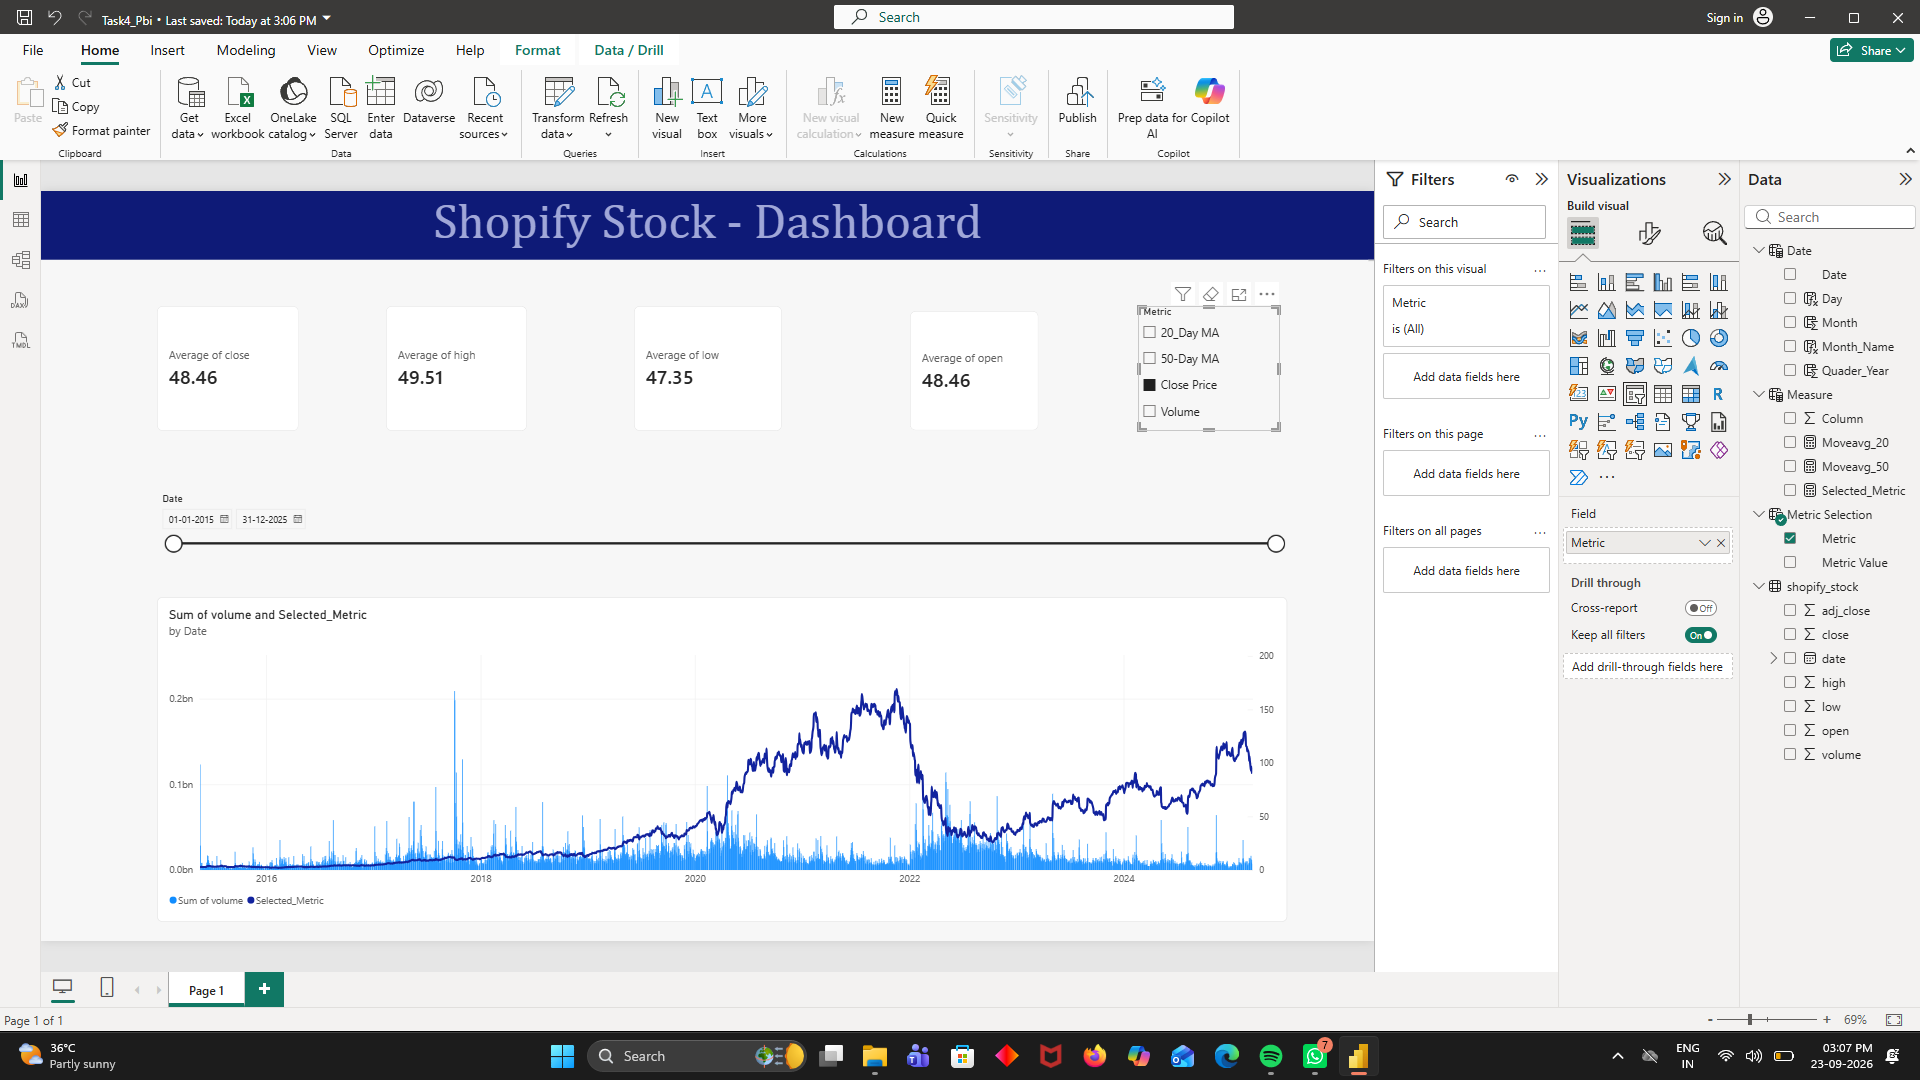

What the dashboard file says about the page in this screenshot:
{"tool":"powerbi","page":{"name":"Page 1","canvas":[1920,1080],"ordinal":0},"visuals":[{"type":"textbox","title":"Shopify Stock - Dashboard","box":[0,0,1920,100.7],"z":0},{"type":"slicer","fields":{"Values":["Metric Selection.Metric"]},"box":[1580.1,165.6,204.5,180],"z":1000},{"type":"cardVisual","fields":{"Data":["Avg(shopify_stock.close)"]},"box":[167.1,165.6,204.5,180],"z":2000},{"type":"cardVisual","fields":{"Data":["Avg(shopify_stock.high)"]},"box":[496.9,165.6,203.1,180],"z":3000},{"type":"cardVisual","fields":{"Data":["Avg(shopify_stock.low)"]},"box":[854.1,165.6,213.2,180],"z":4000},{"type":"cardVisual","fields":{"Data":["Avg(shopify_stock.open)"]},"box":[1251.7,172.8,185.8,172.8],"z":5000},{"type":"slicer","fields":{"Values":["Date.Date"]},"box":[167.1,435,1627.6,149.8],"z":6000},{"type":"lineClusteredColumnComboChart","fields":{"Category":["Date.Date"],"Y":["Sum(shopify_stock.volume)"],"Y2":["Measure.Selected_Metric"]},"box":[167.1,584.8,1627.6,468.1],"z":6001}]}

Visuals, with their boxes on the page's 1920x1080 design canvas (x1, y1, x2, y2). These are canvas units, not pixel positions in the 1920x1080 screenshot, which may show the page scaled, cropped or inside an application window:
"Shopify Stock - Dashboard" textbox: rect(0, 0, 1920, 101)
slicer - Metric Selection.Metric: rect(1580, 166, 1785, 346)
cardVisual - Avg(shopify_stock.close): rect(167, 166, 372, 346)
cardVisual - Avg(shopify_stock.high): rect(497, 166, 700, 346)
cardVisual - Avg(shopify_stock.low): rect(854, 166, 1067, 346)
cardVisual - Avg(shopify_stock.open): rect(1252, 173, 1438, 346)
slicer - Date.Date: rect(167, 435, 1795, 585)
lineClusteredColumnComboChart - Date.Date x Sum(shopify_stock.volume): rect(167, 585, 1795, 1053)
